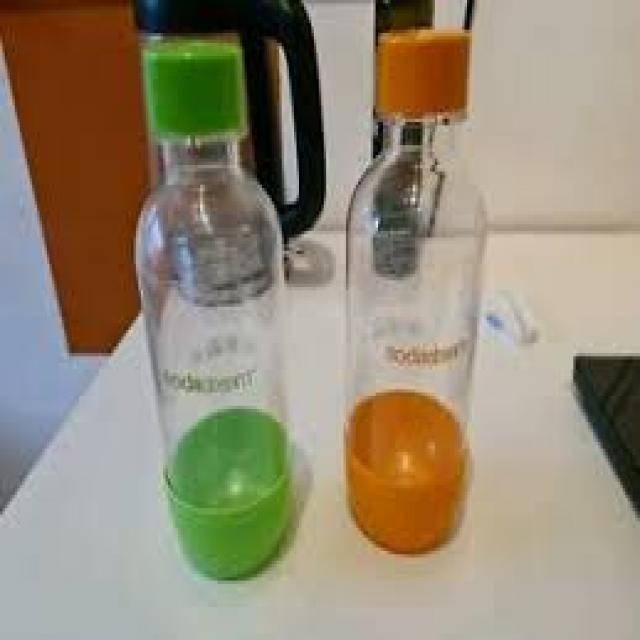Plastic: (136, 36, 292, 582), (342, 26, 488, 554)
